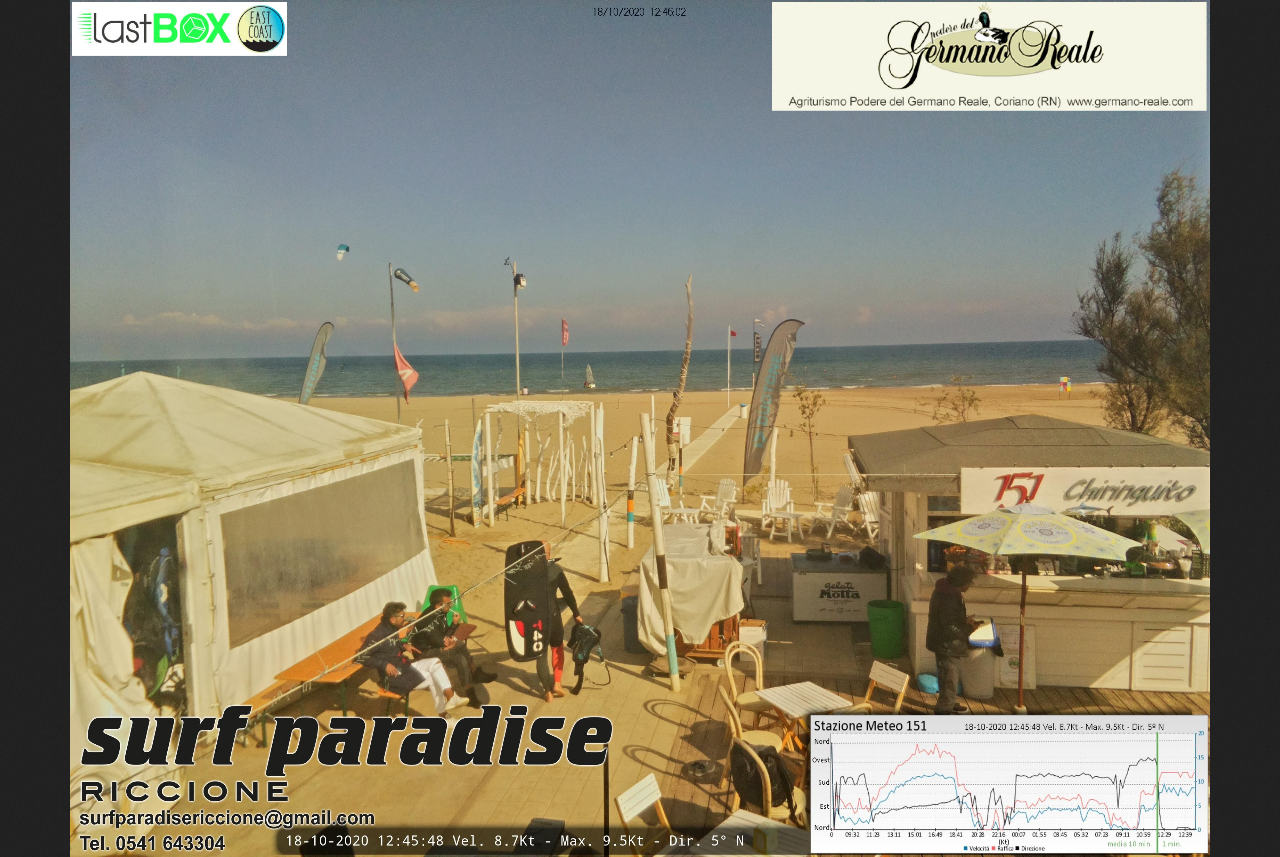maybe: (393, 342, 417, 404)
yes: (561, 317, 569, 351)
